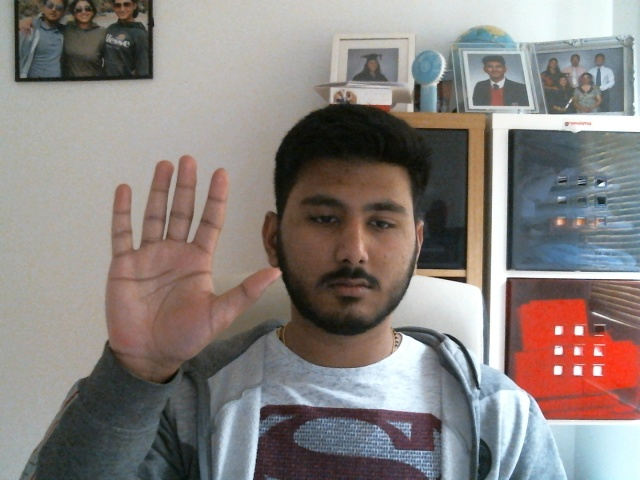hello: (105, 154, 281, 364)
